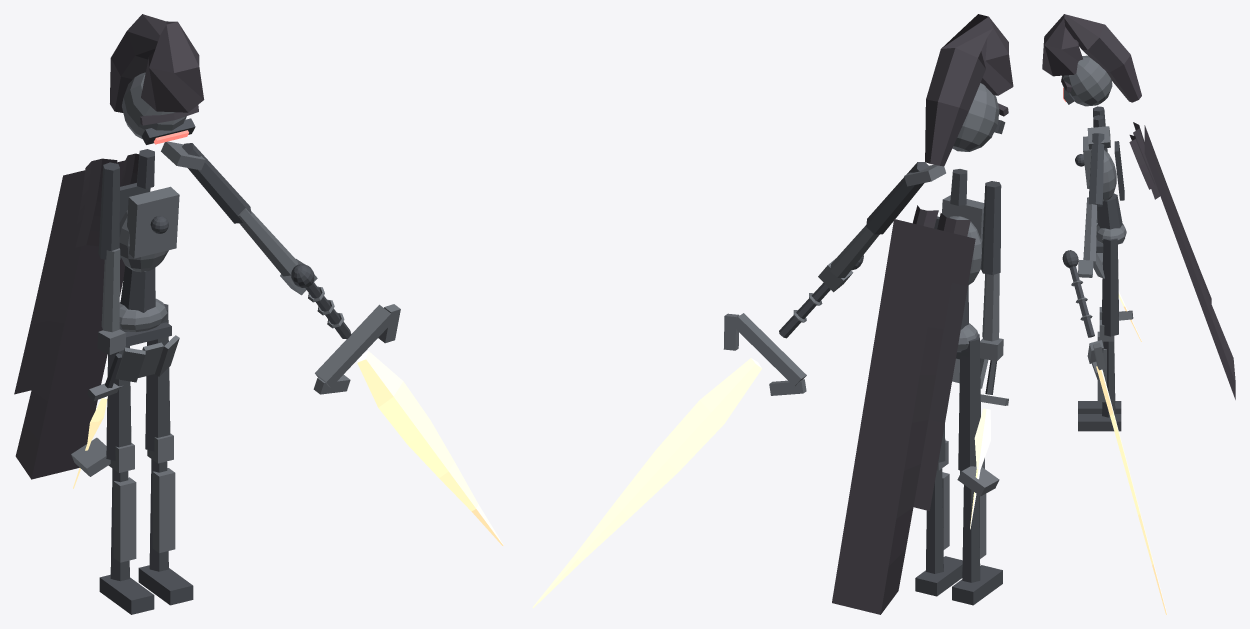
The model's file is boss-watchers.glb.
3 renders of one model, left to right at view 1: azimuth 30°, elevation 25°; view 2: azimuth 150°, elevation 25°; view 3: azimuth 270°, elevation 25°, orthographic. The views are drawn at different scales.
Visible parts, largest first — view 1: w_cape0, w_head_w_cloth, w_torso_w_iron, w_sword_w_blade, w_sword_w_iron, w_hip_w_iron, w_torso_w_dark, w_shinR_w_dark, w_shinL_w_dark, w_armL_w_iron, w_shinL_w_iron, w_shinR_w_iron (+8 smaller); view 2: w_cape0, w_head_w_cloth, w_sword_w_blade, w_torso_w_iron, w_shinL_w_dark, w_sword_w_iron, w_shinR_w_dark, w_legL_w_dark, w_head_w_iron, w_armL_w_dark, w_armL_w_iron, w_armR_w_dark (+5 smaller); view 3: w_head_w_cloth, w_cape0, w_head_w_iron, w_legR_w_dark, w_torso_w_iron, w_torso_w_dark, w_shinR_w_dark, w_sword_w_blade, w_armR_w_dark, w_armR_w_iron, w_sword_w_dark, w_hip_w_iron (+4 smaller).
Part boxes in pixels (x1,y1,x2,y2): w_cape0: (14, 160, 125, 479); w_head_w_cloth: (110, 14, 204, 125); w_torso_w_iron: (71, 141, 205, 476); w_sword_w_blade: (357, 351, 503, 546); w_sword_w_iron: (308, 286, 400, 394); w_hip_w_iron: (115, 298, 179, 382); w_torso_w_dark: (119, 149, 168, 331); w_shinR_w_dark: (138, 459, 193, 605); w_shinL_w_dark: (99, 468, 154, 614); w_armL_w_iron: (97, 248, 126, 354); w_shinL_w_iron: (113, 477, 136, 562); w_shinR_w_iron: (152, 468, 175, 553); w_cape0: (832, 219, 975, 614); w_head_w_cloth: (925, 14, 1013, 166); w_sword_w_blade: (532, 358, 761, 608); w_torso_w_iron: (904, 164, 999, 496); w_shinL_w_dark: (952, 485, 1002, 605); w_sword_w_iron: (723, 293, 822, 395); w_shinR_w_dark: (915, 468, 962, 596); w_legL_w_dark: (958, 334, 981, 470); w_head_w_iron: (952, 83, 999, 151); w_armL_w_dark: (981, 181, 1001, 274); w_armL_w_iron: (980, 273, 1003, 360); w_armR_w_dark: (866, 162, 929, 234); w_head_w_cloth: (1042, 14, 1141, 102); w_cape0: (1144, 125, 1235, 399); w_head_w_iron: (1062, 55, 1112, 106); w_legR_w_dark: (1102, 238, 1118, 336); w_torso_w_iron: (1083, 126, 1133, 320); w_torso_w_dark: (1075, 115, 1124, 244); w_shinR_w_dark: (1078, 341, 1121, 431); w_sword_w_blade: (1096, 366, 1167, 614); w_armR_w_dark: (1088, 133, 1104, 206); w_armR_w_iron: (1078, 197, 1096, 277); w_sword_w_dark: (1062, 250, 1094, 337); w_hip_w_iron: (1093, 224, 1126, 278).
Size of the model in its own units: 2.01 by 2.82 by 1.07.
